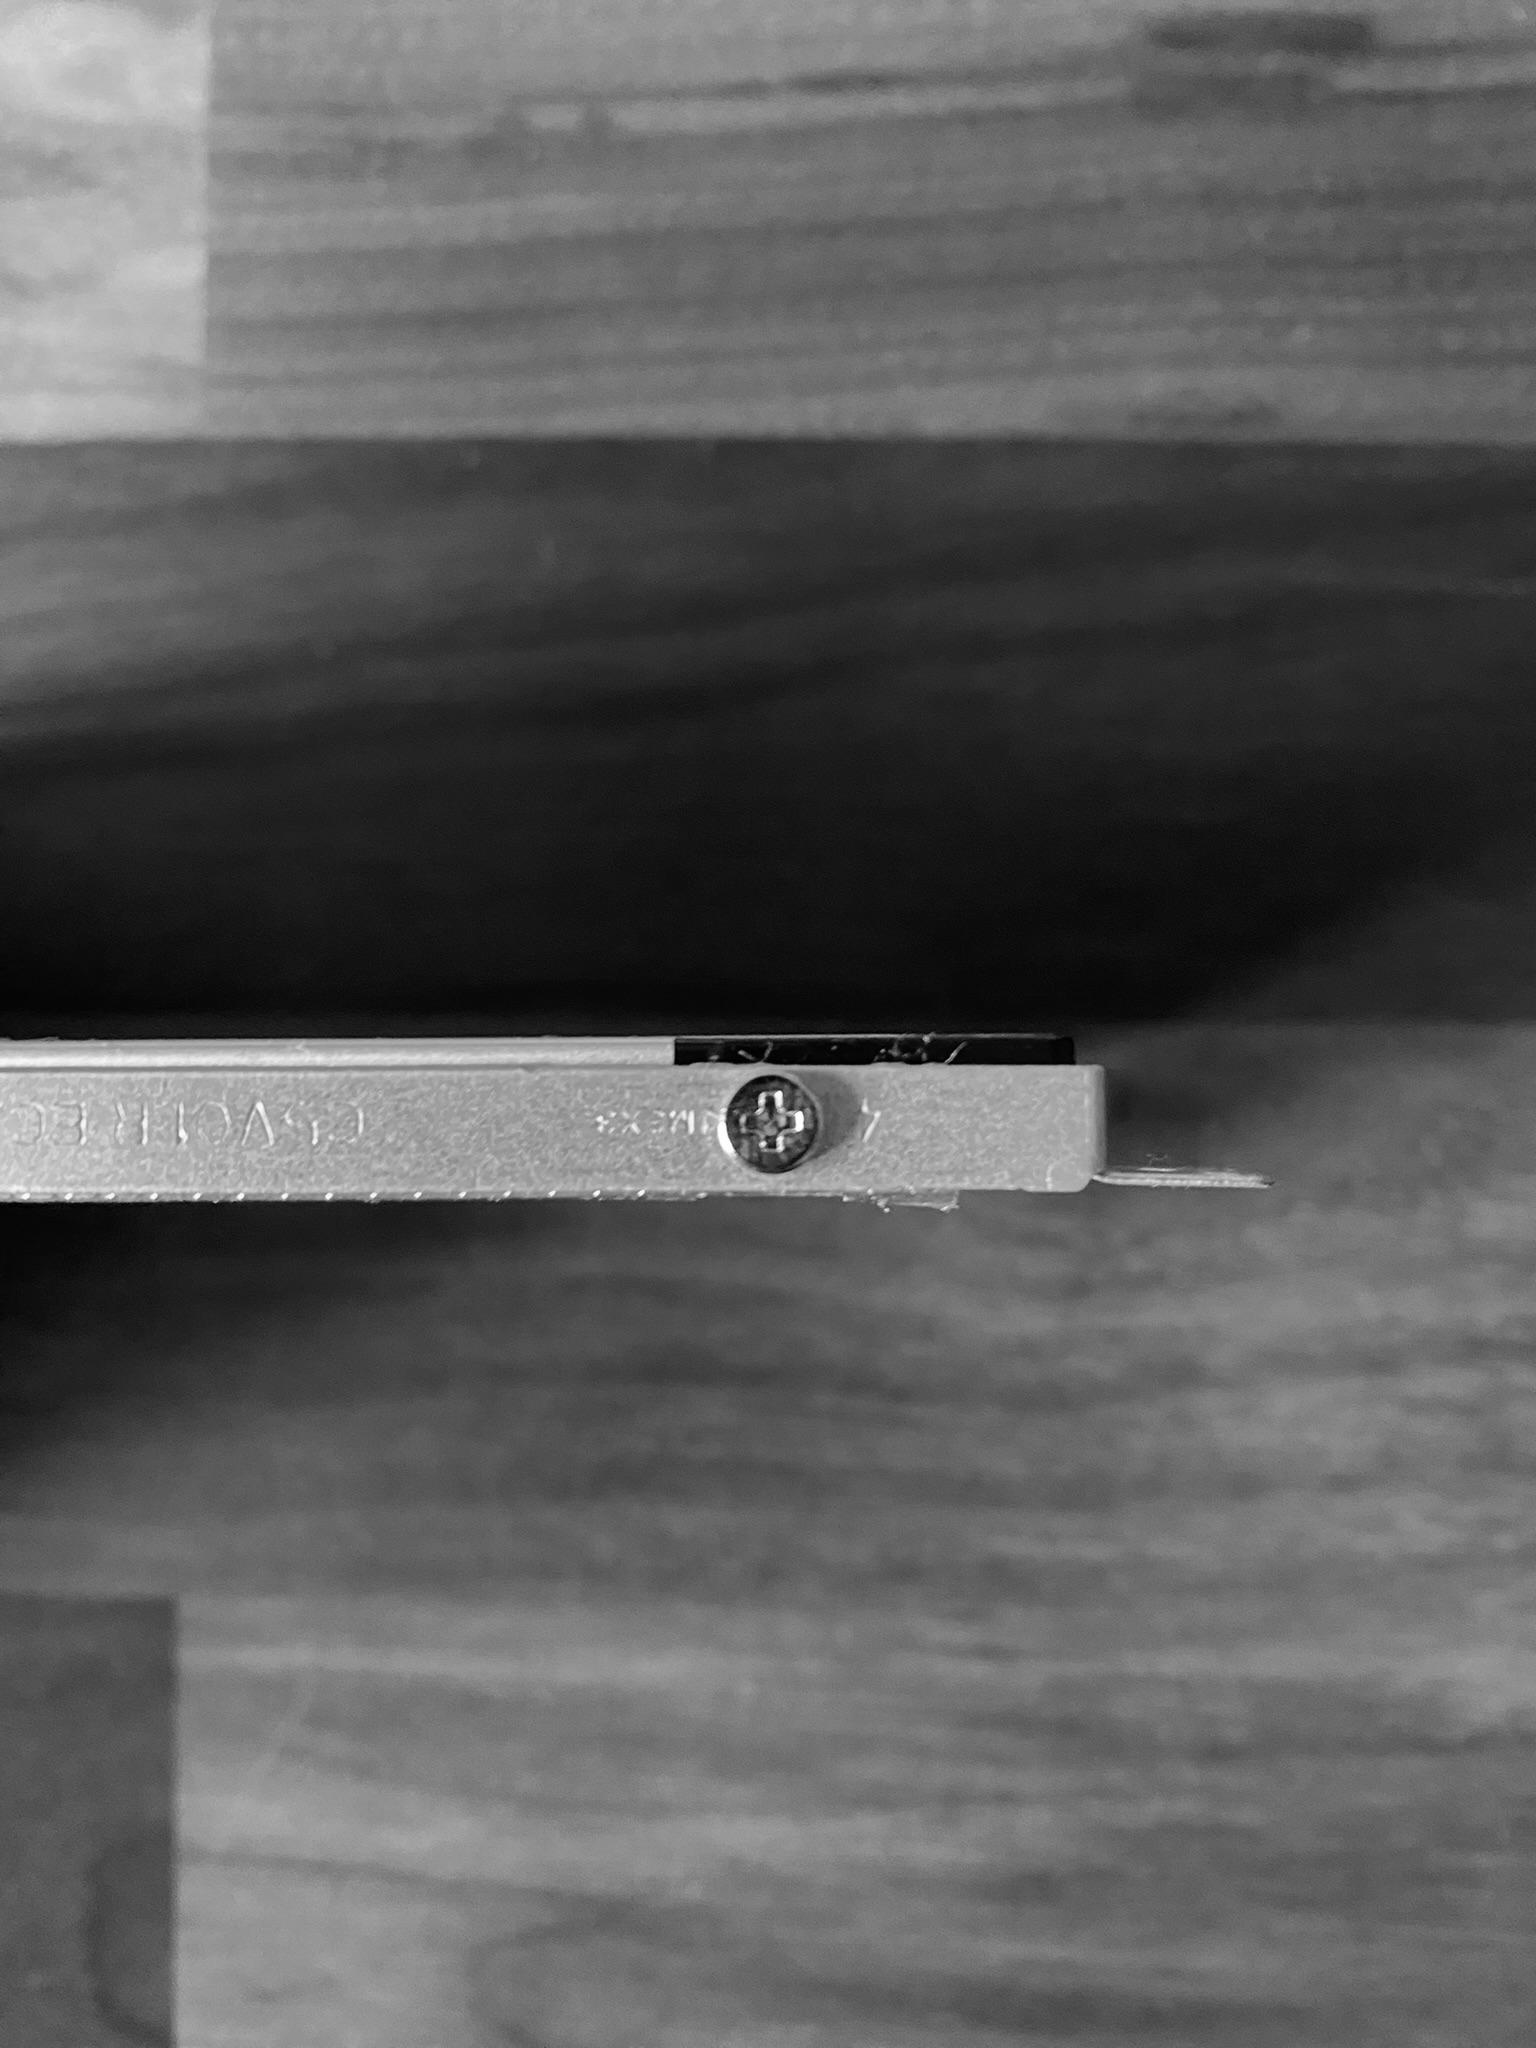screw: (718, 1072, 826, 1177)
